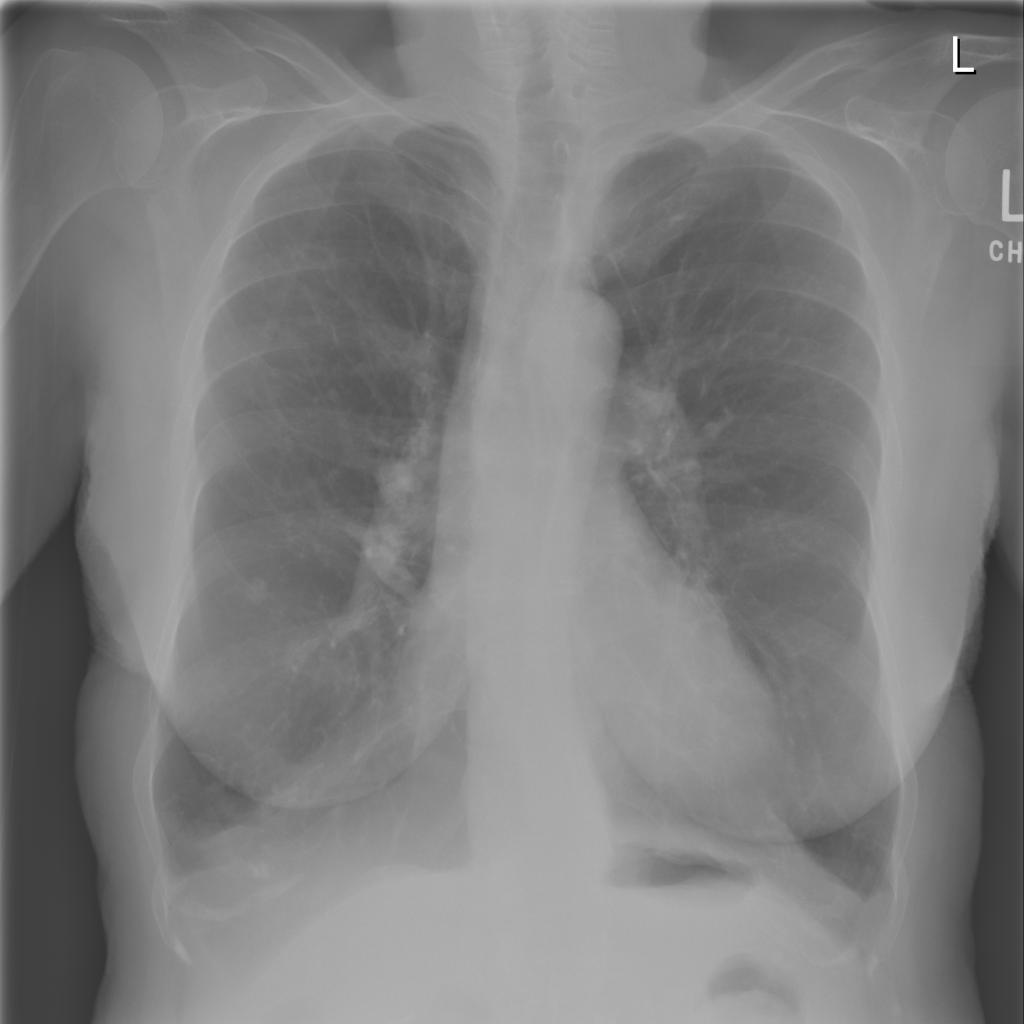Nodule: (73, 216, 97, 242), (236, 235, 252, 253)
